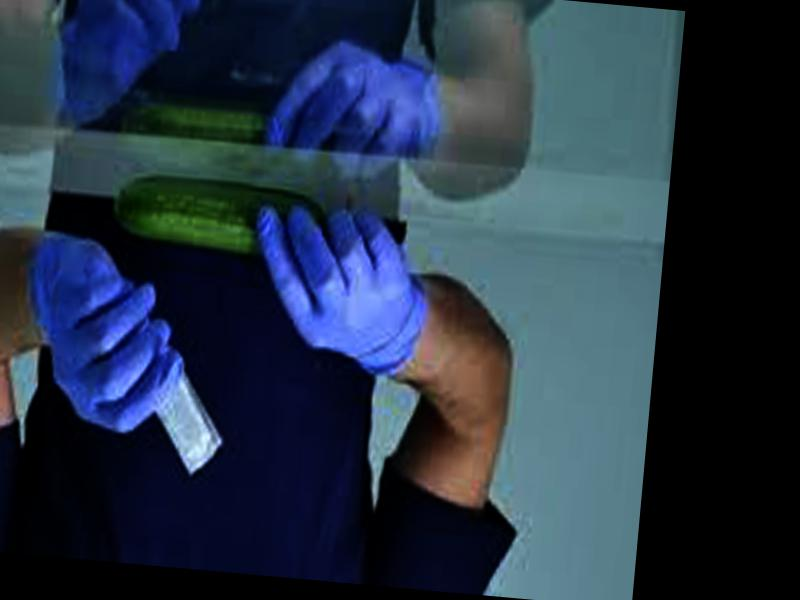Cucumber: (109, 170, 325, 260)
